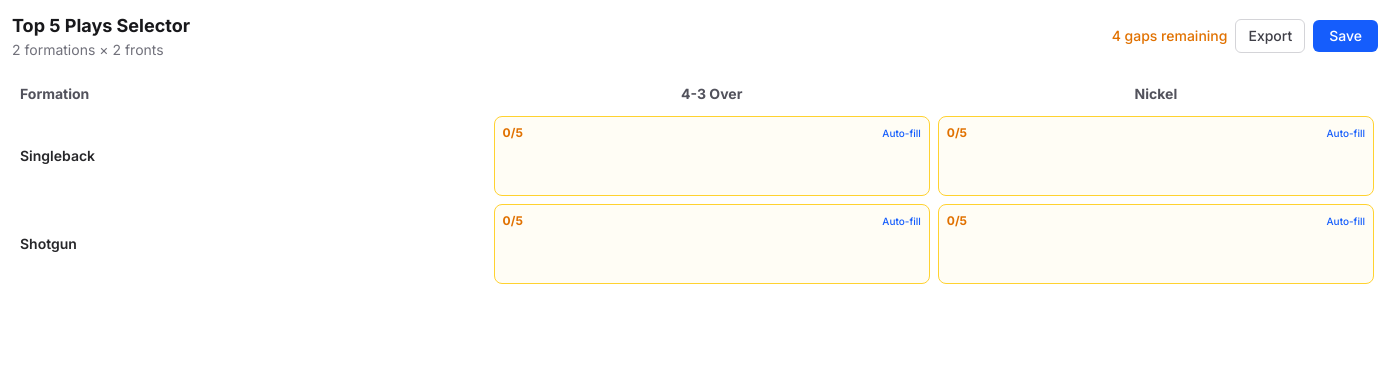
Test: TopPlaysSelector › auto-fills a cell with suggested plays
What coordinates should you click on to do the following:
click the button with test id "auto-fill-f1-fr1"
I would click on:
 (902, 133)
Its box is top-left (882, 126), bottom-right (921, 140).
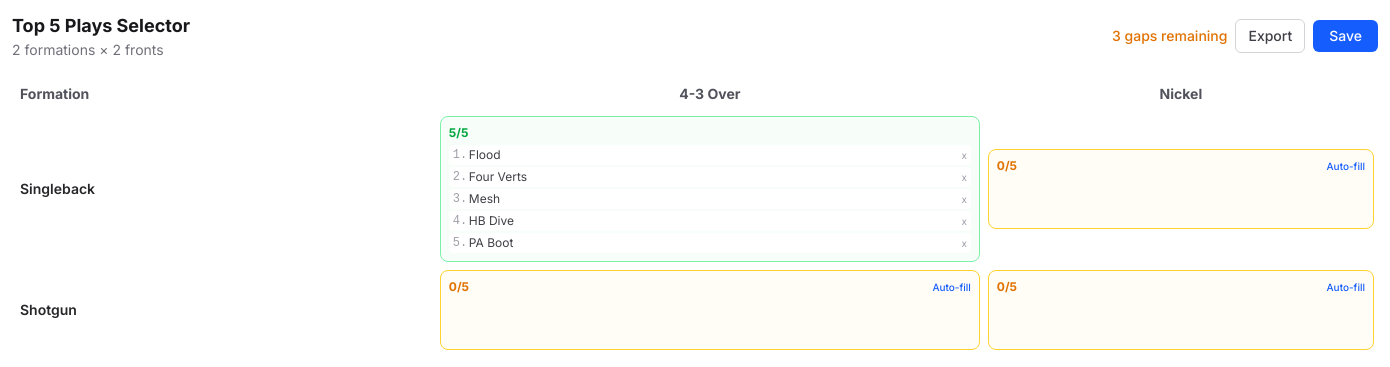
Check: the text with test id "cell-count-f1-fr1" reads "5/5", box top-left (449, 125), bottom-right (468, 141)
